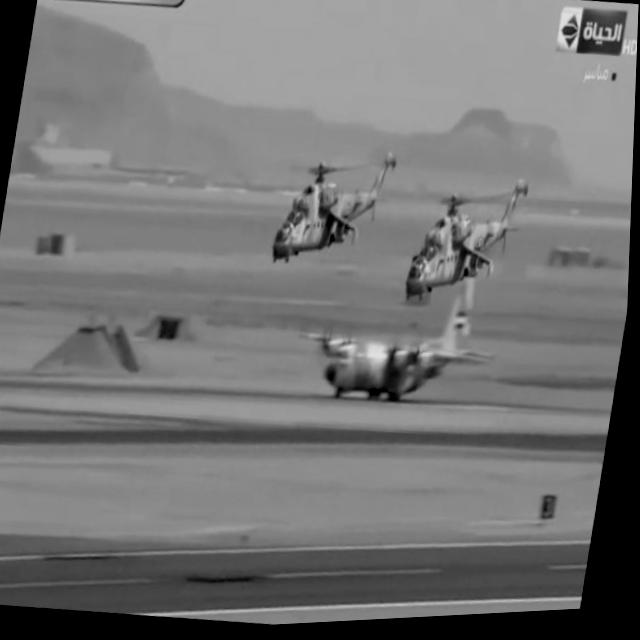helikopter: (258, 130, 404, 272), (404, 184, 541, 305)
